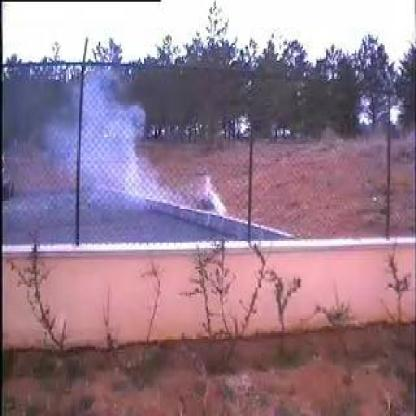-: (80, 80, 224, 232)
